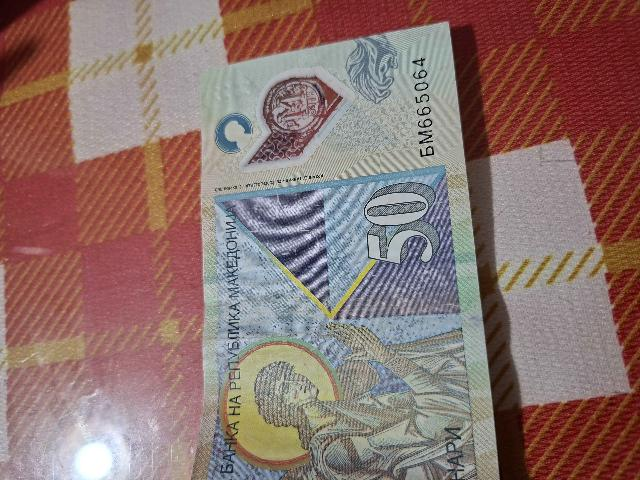note: (201, 24, 497, 479)
